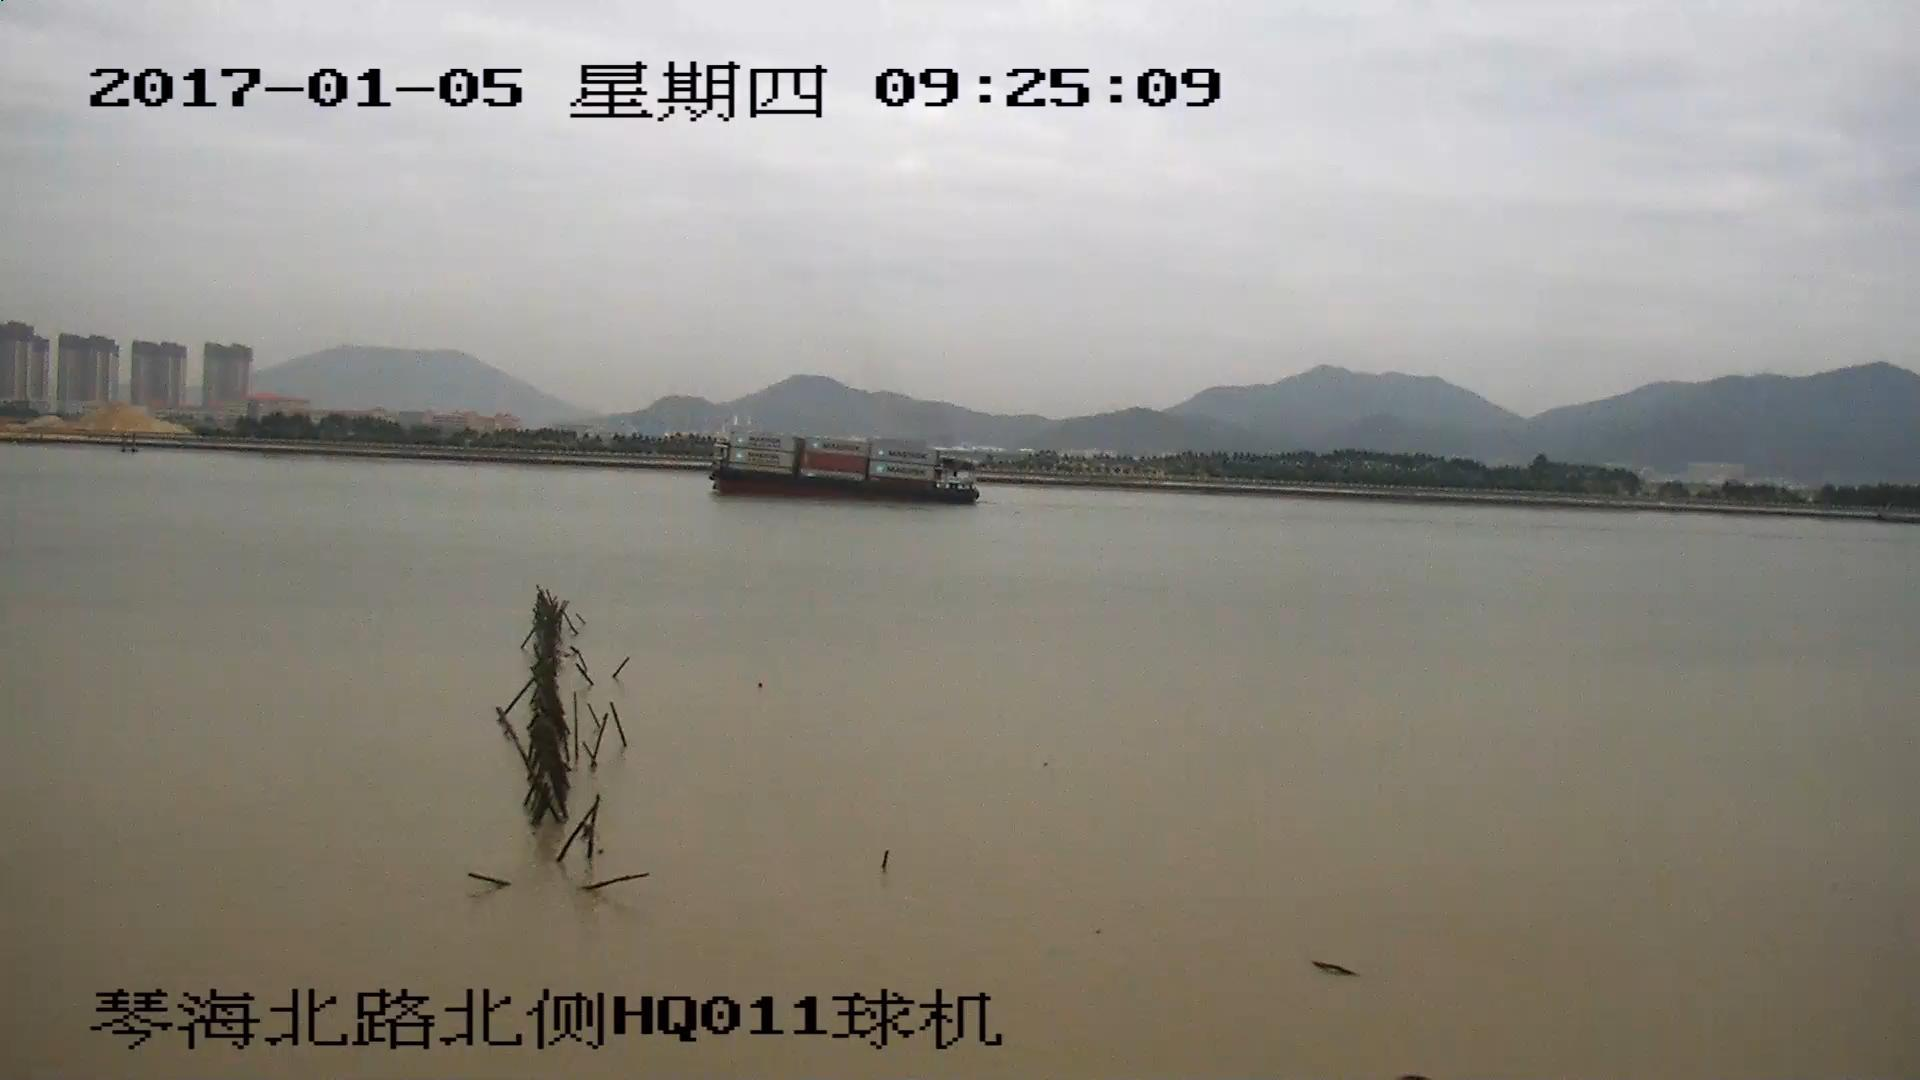Ship: (707, 433, 975, 506)
